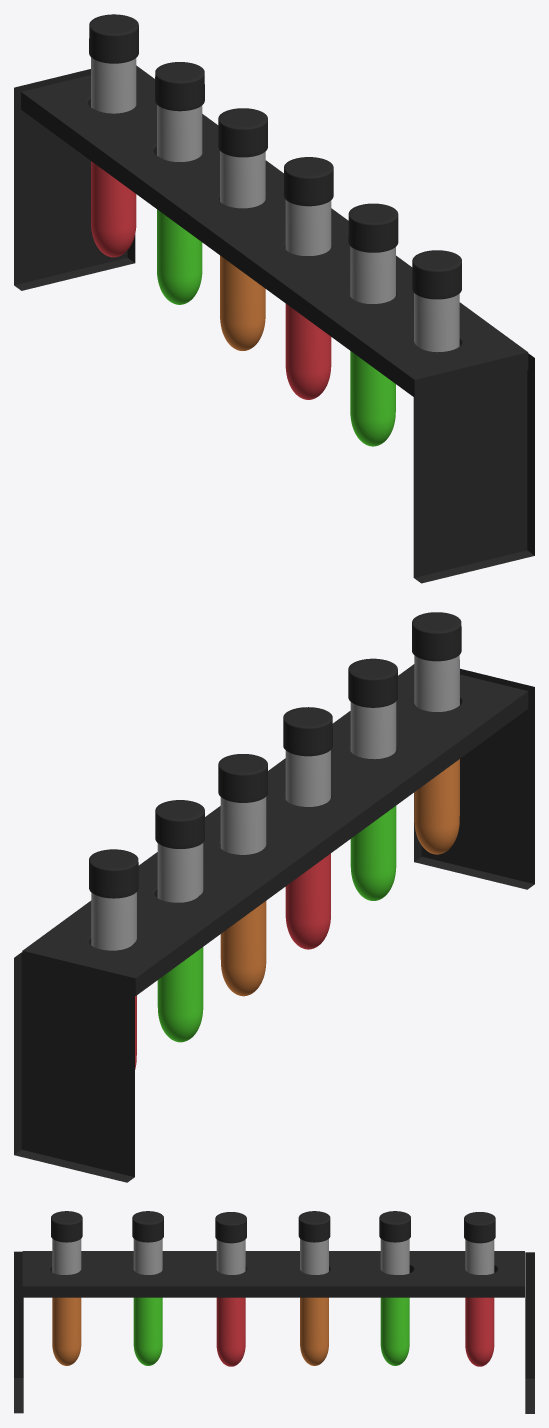
The picture shows the model from 3 angles, top to bottom: view 1: azimuth 30°, elevation 25°; view 2: azimuth 150°, elevation 25°; view 3: azimuth 270°, elevation 25°; orthographic projection. The views are drawn at different scales.
Visible parts, largest first — view 1: Plane, Cube, Cube.001, Sphere.010, Sphere.002, Sphere, Sphere.004, Sphere.006, Sphere.008, Sphere.003, Sphere.005, Sphere.001 (+3 smaller); view 2: Plane, Cube.001, Cube, Sphere.006, Sphere, Sphere.002, Sphere.010, Sphere.008, Sphere.004, Sphere.005, Sphere.009, Sphere.011 (+3 smaller); view 3: Plane, Sphere.006, Sphere.004, Sphere.008, Sphere.010, Sphere.002, Sphere, Cube.001, Cube, Sphere.001, Sphere.003, Sphere.007 (+3 smaller).
Boxes of the visible parts, left/top/right/bottom form: Plane: left=21, top=65, right=528, bottom=397; Cube: left=413, top=353, right=534, bottom=583; Cube.001: left=14, top=69, right=135, bottom=290; Sphere.010: left=285, top=200, right=331, bottom=399; Sphere.002: left=350, top=246, right=395, bottom=446; Sphere: left=220, top=151, right=265, bottom=350; Sphere.004: left=91, top=57, right=136, bottom=257; Sphere.006: left=157, top=105, right=202, bottom=304; Sphere.008: left=414, top=293, right=459, bottom=352; Sphere.003: left=348, top=203, right=398, bottom=252; Sphere.005: left=89, top=14, right=138, bottom=63; Sphere.001: left=218, top=108, right=267, bottom=157; Plane: left=22, top=664, right=528, bottom=995; Cube.001: left=14, top=952, right=134, bottom=1182; Cube: left=414, top=668, right=534, bottom=889; Sphere.006: left=157, top=843, right=203, bottom=1042; Sphere: left=220, top=796, right=266, bottom=996; Sphere.002: left=350, top=701, right=396, bottom=900; Sphere.010: left=285, top=750, right=330, bottom=949; Sphere.008: left=414, top=655, right=459, bottom=854; Sphere.004: left=91, top=892, right=136, bottom=1069; Sphere.005: left=89, top=849, right=138, bottom=898; Sphere.009: left=412, top=612, right=461, bottom=661; Sphere.011: left=283, top=707, right=332, bottom=756; Plane: left=22, top=1251, right=524, bottom=1297; Sphere.006: left=380, top=1239, right=409, bottom=1365; Sphere.004: left=465, top=1239, right=494, bottom=1366; Sphere.008: left=52, top=1239, right=81, bottom=1365; Sphere.010: left=216, top=1239, right=245, bottom=1366; Sphere.002: left=133, top=1239, right=162, bottom=1365; Sphere: left=300, top=1239, right=328, bottom=1365; Cube.001: left=525, top=1252, right=534, bottom=1413; Cube: left=14, top=1251, right=23, bottom=1413; Sphere.001: left=298, top=1211, right=330, bottom=1242; Sphere.003: left=132, top=1211, right=163, bottom=1242; Sphere.007: left=379, top=1211, right=410, bottom=1242.
Bounding box in the file's own units: 0.3324 × 0.7777 × 2.06.
